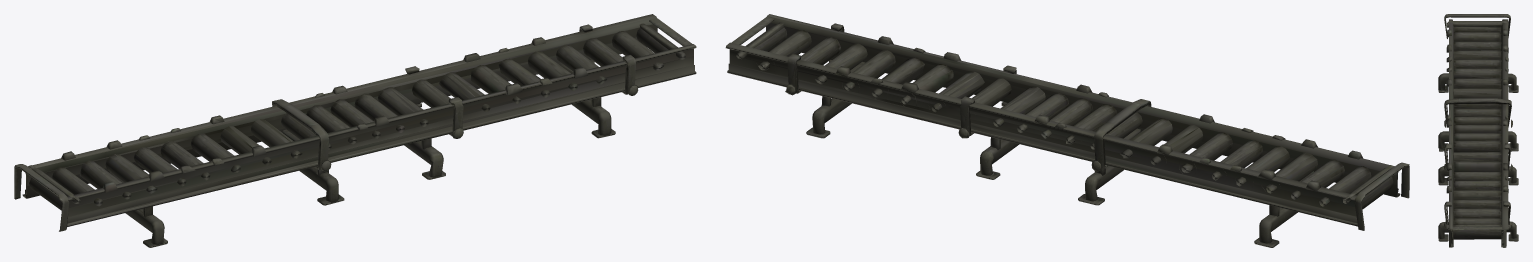
Rendered from foundry-conveyor.glb.
3 views of the same model, side by side, from view 1: azimuth 30°, elevation 25°; view 2: azimuth 150°, elevation 25°; view 3: azimuth 270°, elevation 25° (orthographic). The views are drawn at different scales.
Bounding box in the file's own units: 1 × 0.1036 × 0.16.
1 material, 1 textured.
